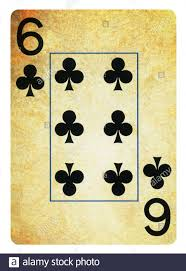six of hearts: (11, 9, 177, 245)
